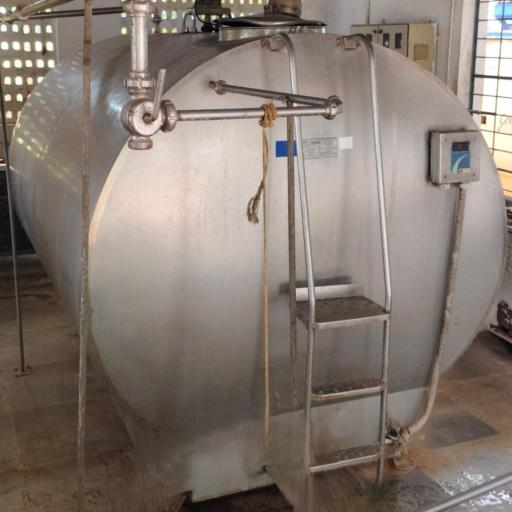silo: (7, 15, 509, 501)
